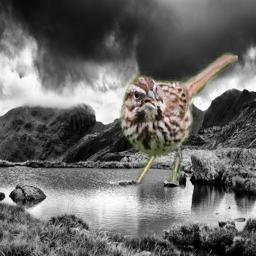Sparrow: (119, 52, 238, 182)
